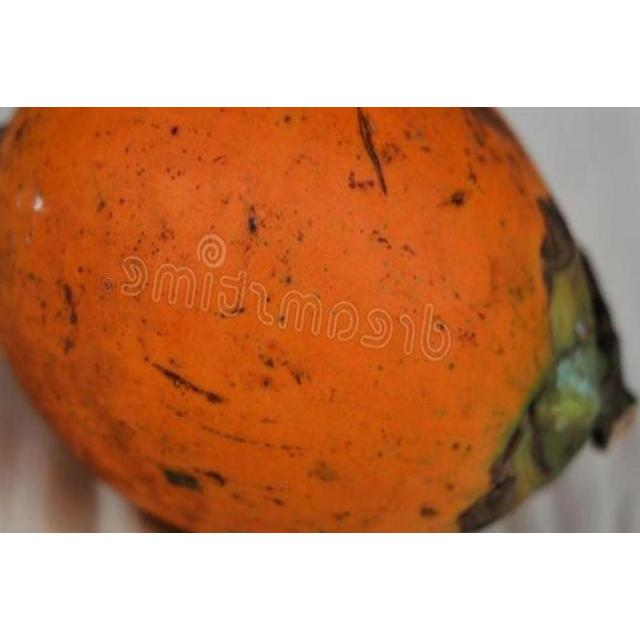good: (0, 107, 634, 533)
